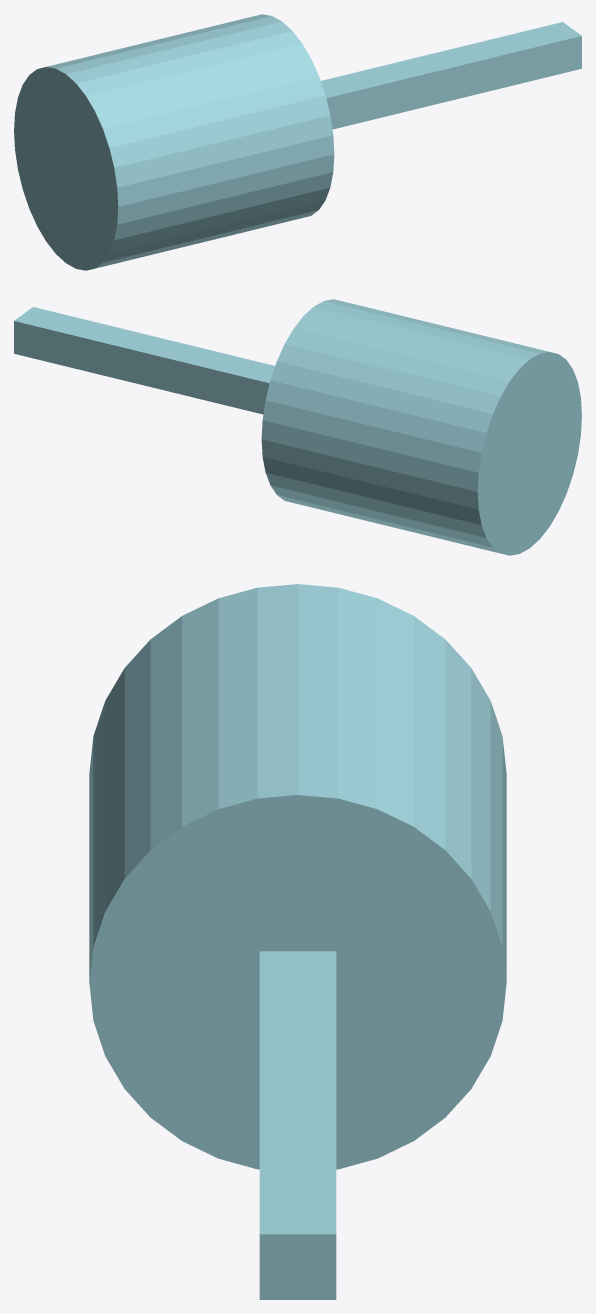
Rendered from cylinder_screwdriver_v3004.obj.
3 renders of one model, top to bottom at view 1: azimuth 30°, elevation 25°; view 2: azimuth 150°, elevation 25°; view 3: azimuth 270°, elevation 25°, orthographic. The views are drawn at different scales.
Bounding box in the file's own units: 0.1803 × 0.0643 × 0.0643.
1 material, 1 textured.
